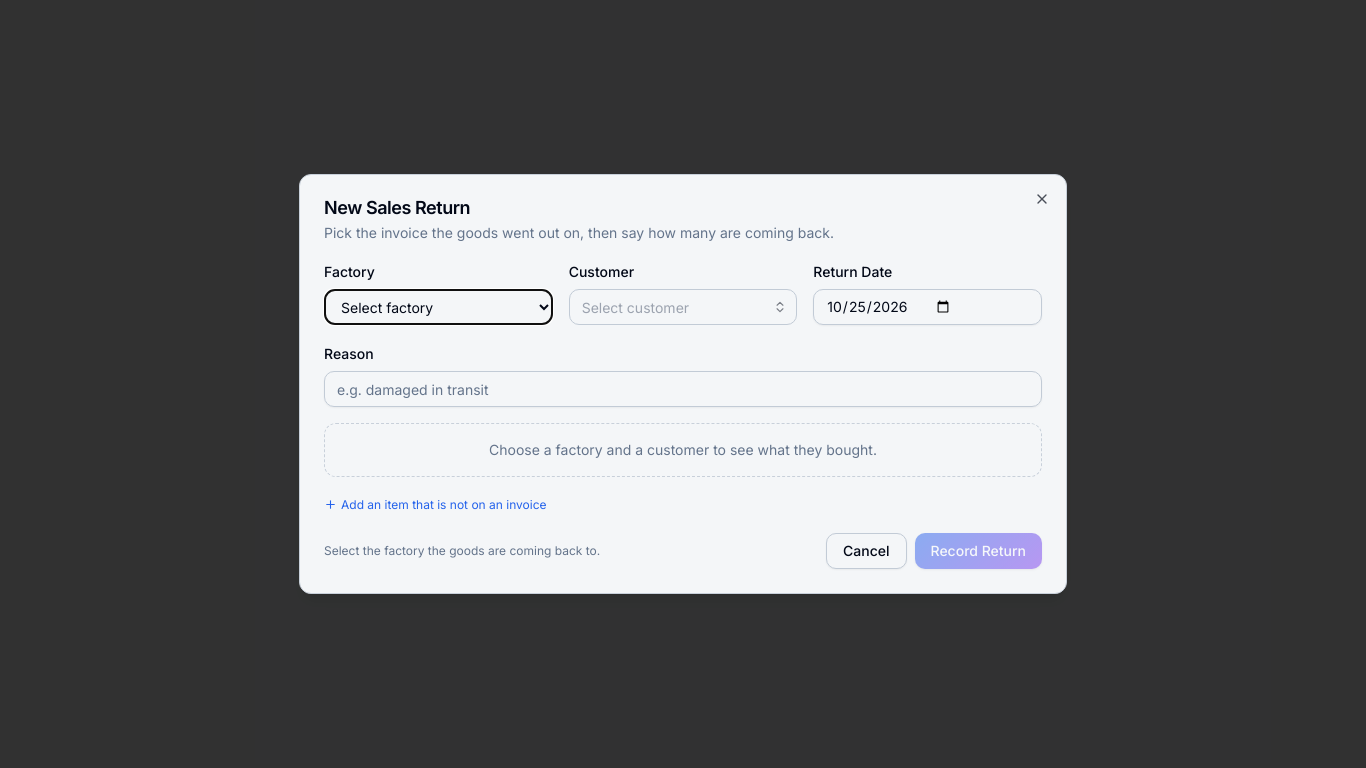
Test case: Recording a sales return › will not let more come back than the invoice has left
Select "Bhubaneswar Plant" in the dropdown labelled "Factory": (438, 307) x1=324 y1=289 x2=553 y2=325
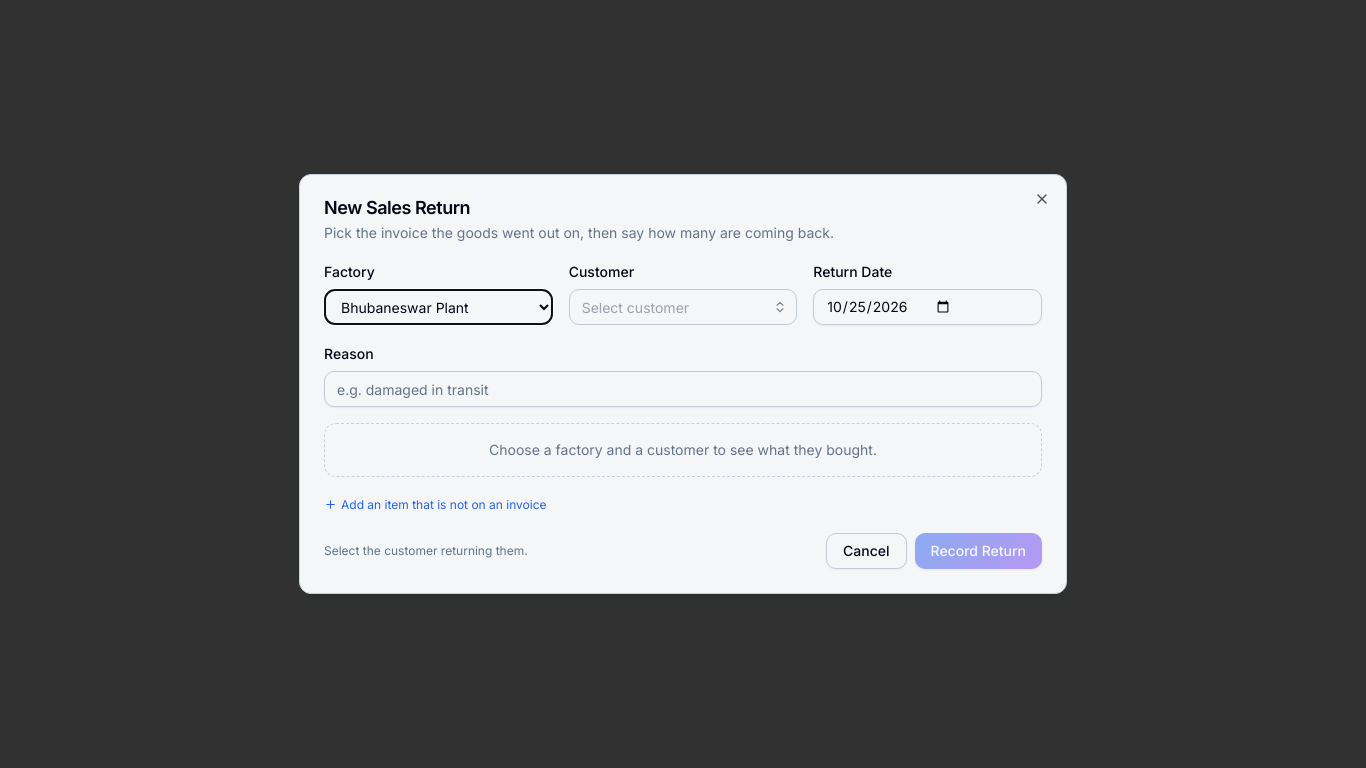
Click the dropdown labelled "Customer": click(683, 307) x1=569 y1=289 x2=797 y2=325
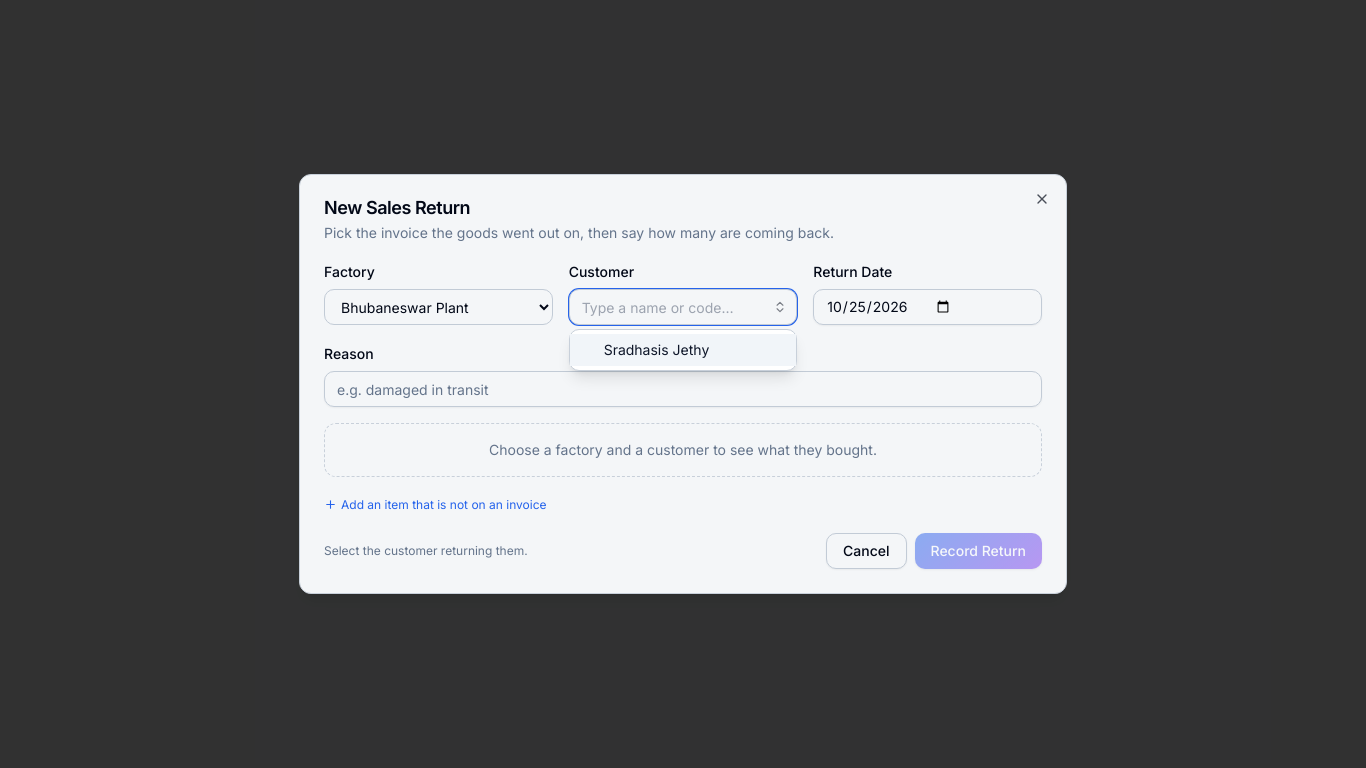
Click the option "Sradhasis Jethy": click(683, 350) x1=570 y1=334 x2=796 y2=366
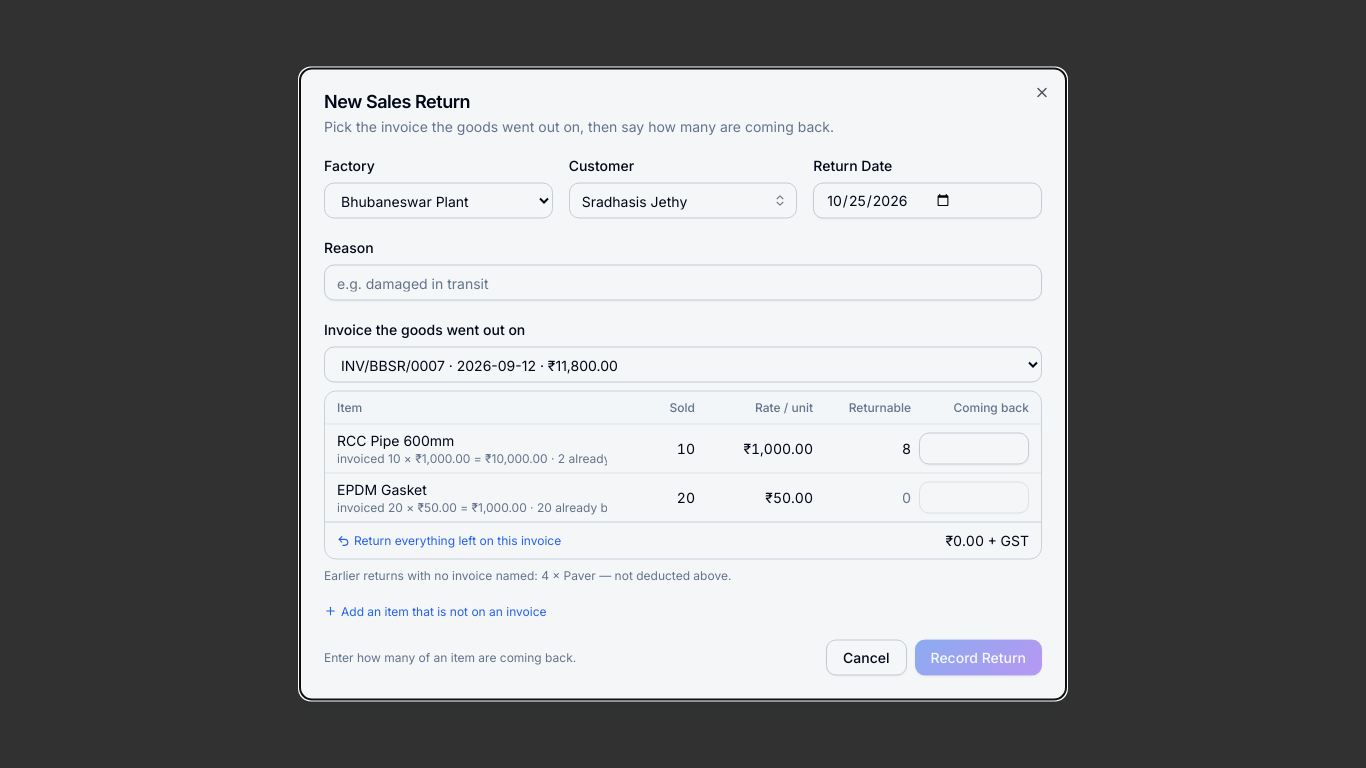
In the number field named "Quantity returned of RCC Pipe 600mm": (974, 448) x1=919 y1=432 x2=1029 y2=464, type "9"
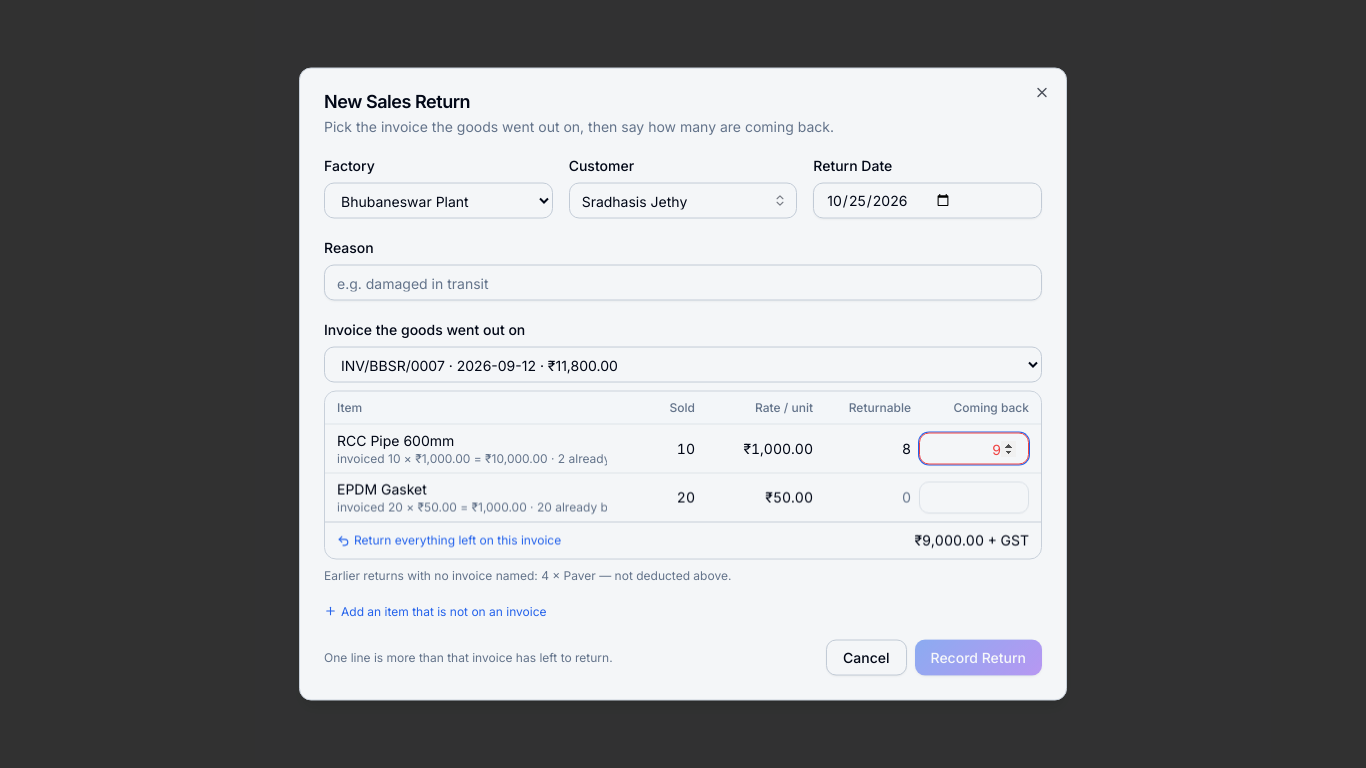
Expected: the button "Record Return" is disabled, x1=914 y1=640 x2=1042 y2=676
Now the text "One line is more than that invoice has left to return." is shown, box x1=324 y1=650 x2=613 y2=666
